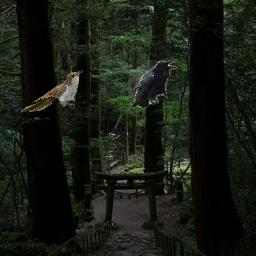Crow: (128, 60, 177, 110)
Cuckoo: (21, 70, 84, 112)
